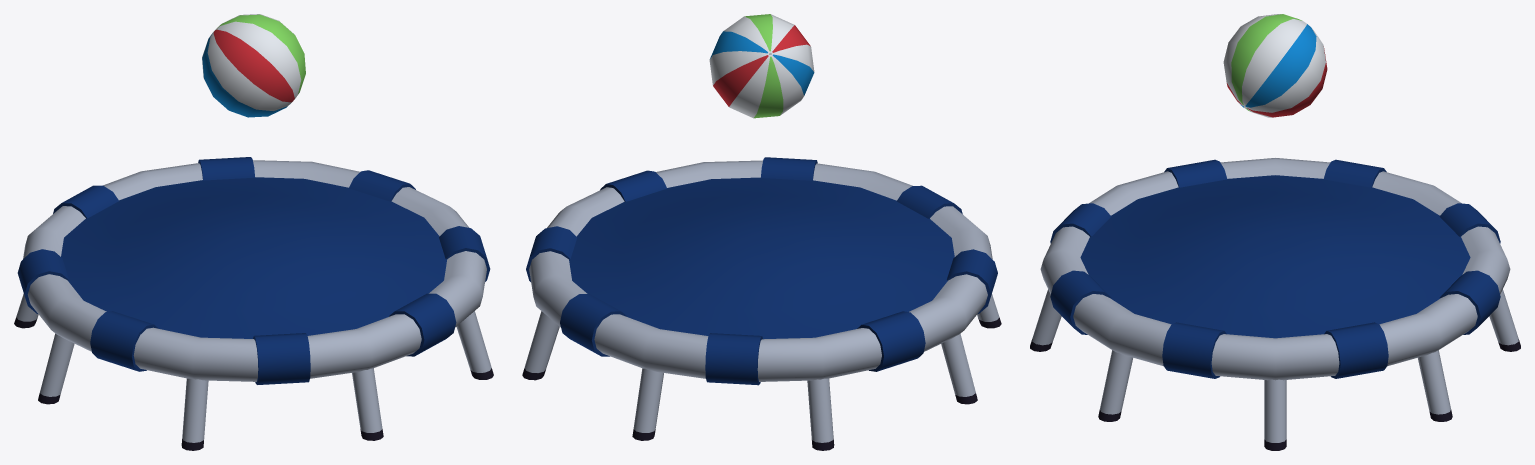
Rendered from Trampoline.fbx.
The picture shows the model from 3 angles, left to right: view 1: azimuth 30°, elevation 25°; view 2: azimuth 150°, elevation 25°; view 3: azimuth 270°, elevation 25°; orthographic projection.
Parts seen in each view (by area): view 1: Trampoline, beachBall; view 2: Trampoline, beachBall; view 3: Trampoline, beachBall.
Boxes of the visible parts, x1,y1,x2,y2 form: Trampoline: (14, 157, 493, 450); beachBall: (202, 14, 305, 117); Trampoline: (522, 157, 1001, 450); beachBall: (709, 14, 814, 118); Trampoline: (1030, 158, 1520, 450); beachBall: (1223, 14, 1327, 117).
Bounding box in the file's own units: 230 × 169 × 230.
1 material, 1 textured.
